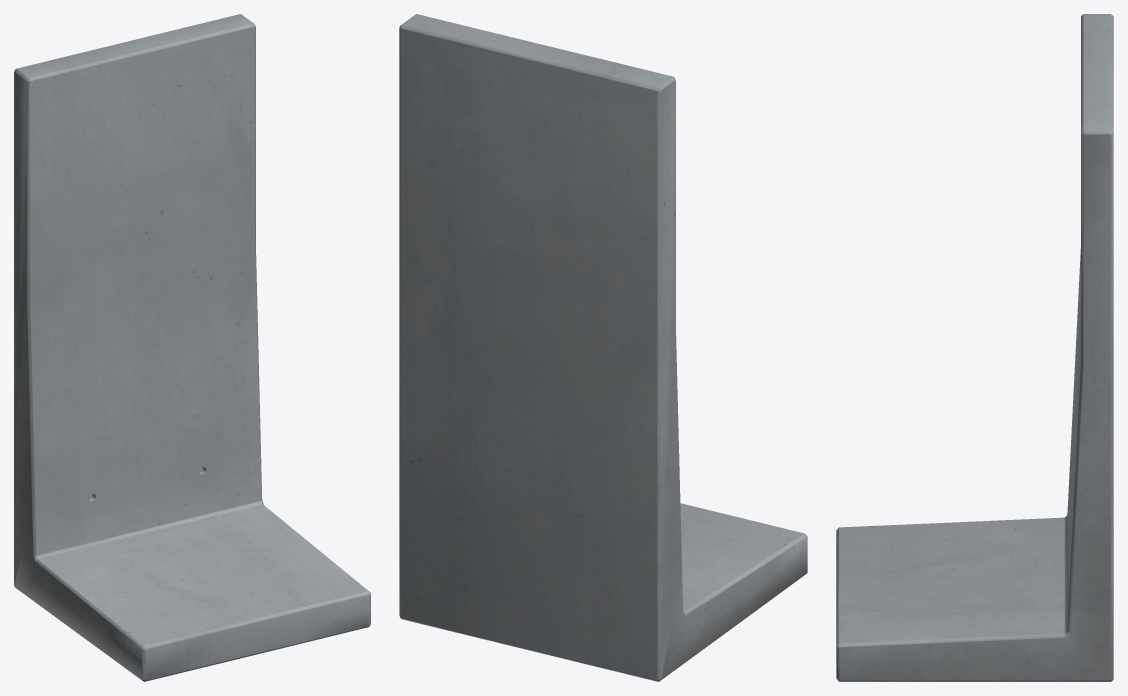
File: Mur Oporowy 03.glb
3 renders of one model, left to right at view 1: azimuth 30°, elevation 25°; view 2: azimuth 150°, elevation 25°; view 3: azimuth 270°, elevation 25°, orthographic. The views are drawn at different scales.
Parts seen in each view (by area): view 1: Angle 308; view 2: Angle 308; view 3: Angle 308.
Part boxes in pixels (x1,y1,x2,y2): Angle 308: (14, 14, 370, 681); Angle 308: (399, 14, 807, 681); Angle 308: (836, 14, 1113, 681).
Bounding box in the file's own units: 1.71 × 3.7 × 1.69.
1 material, 1 textured.
